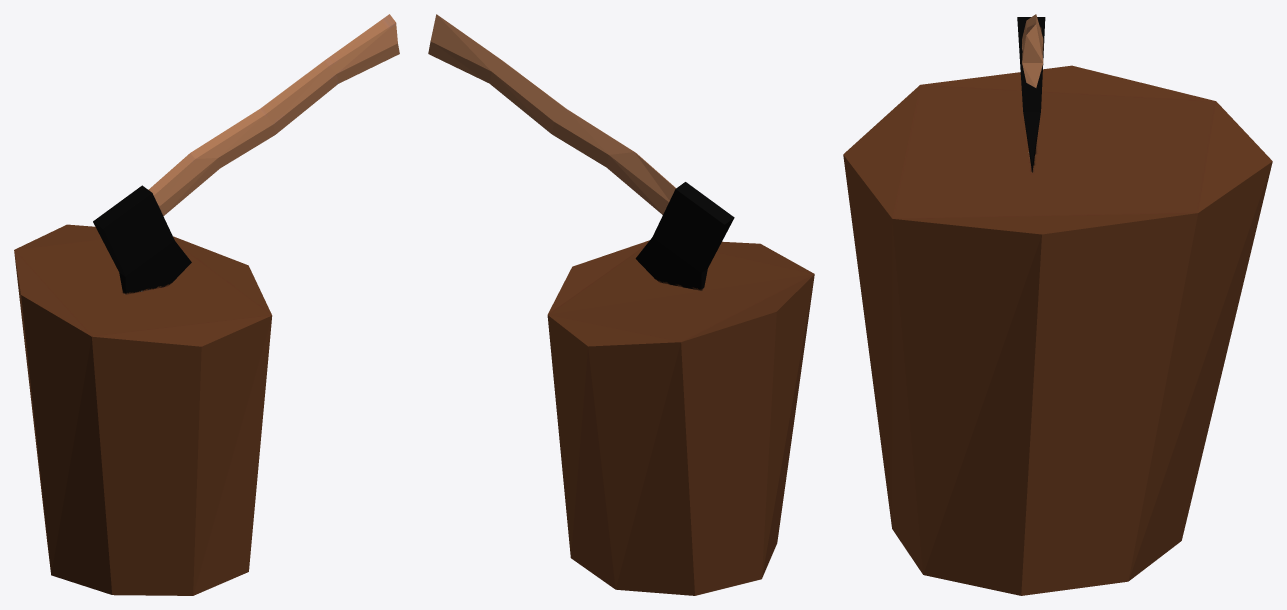
The model's file is AxeInTrunk(2).FBX.
The picture shows the model from 3 angles, left to right: view 1: azimuth 30°, elevation 25°; view 2: azimuth 150°, elevation 25°; view 3: azimuth 270°, elevation 25°; orthographic projection. The views are drawn at different scales.
Visible parts, largest first — view 1: node_id4; view 2: node_id4; view 3: node_id4.
Boxes of the visible parts, x1=… form: node_id4: x1=14, y1=14, x2=399, y2=595; node_id4: x1=428, y1=14, x2=814, y2=595; node_id4: x1=843, y1=14, x2=1272, y2=595.
Bounding box in the file's own units: 0.3086 × 0.3929 × 0.2265.
1 material, 1 textured.
